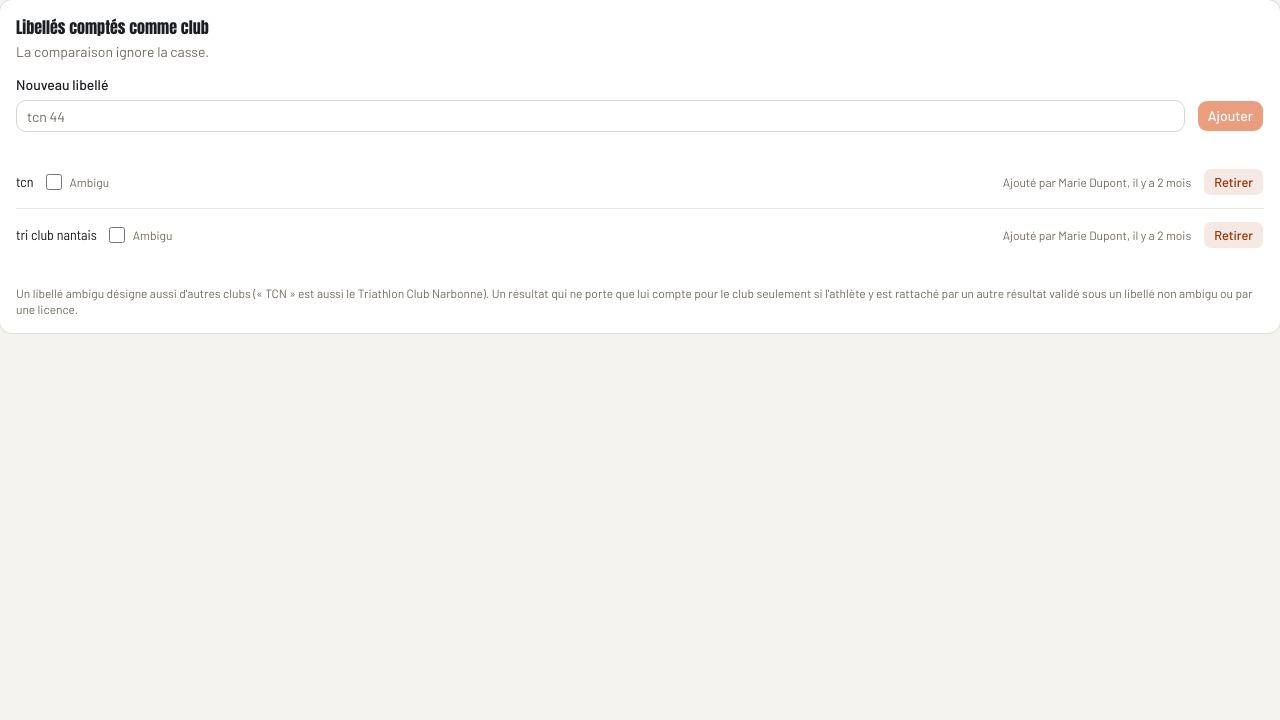
Scenario: CounterScopeCard › demande confirmation avant de retirer
Click the button with aria-label "retirer « tcn »": (1234, 182) [1203,168,1264,196]
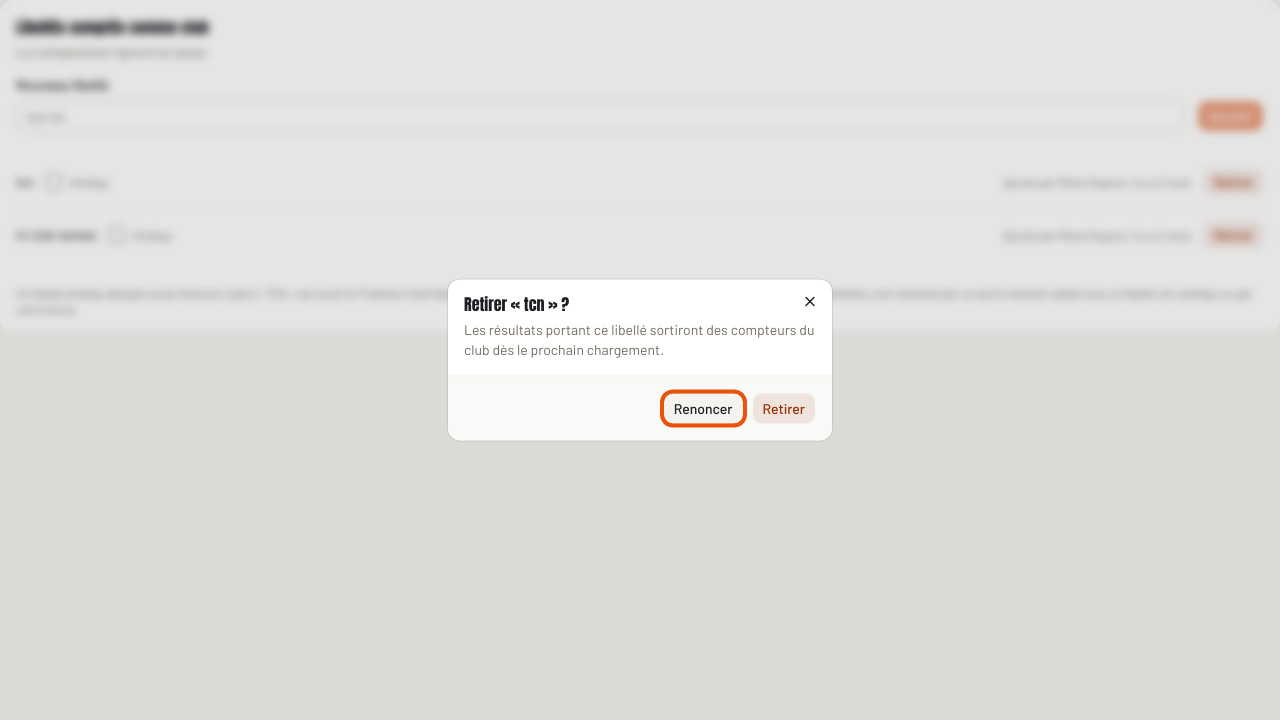
Check: the dialog is shown, box [448,280,832,440]
